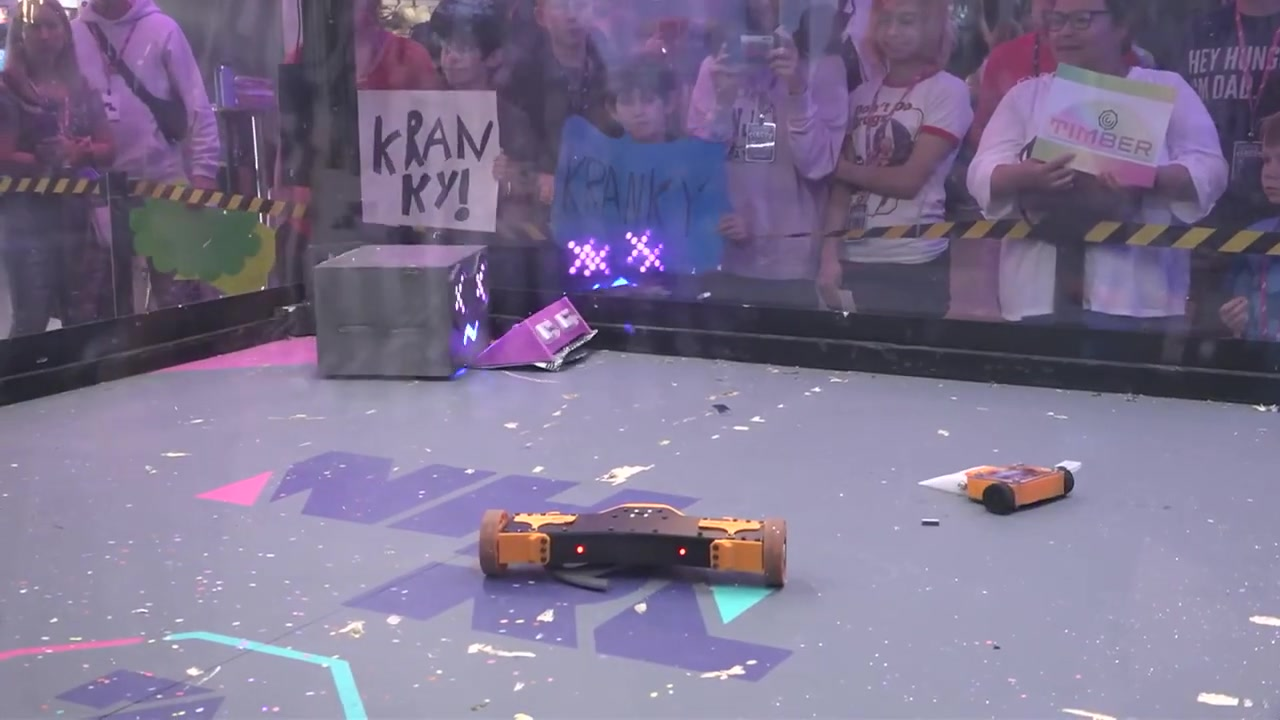combatbot: (480, 501, 788, 597), (477, 296, 600, 375)
housebot: (311, 243, 497, 383)
minibot: (918, 463, 1080, 516)
